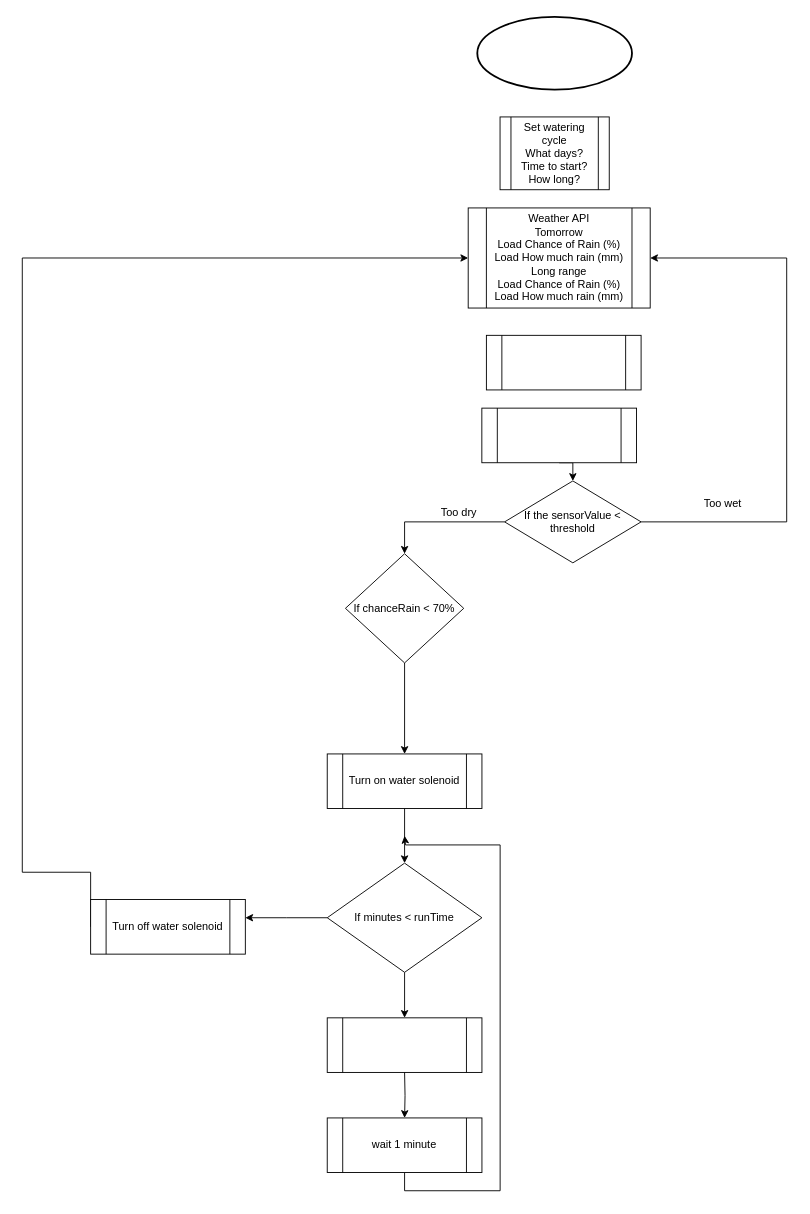
Image size: 810x1214. Some labels were removed from this diagram. Here are the shapes that lost their labels. From the top down, the centre of each, then its label:
At [554,52]: "User types the URL 192.0.0.0.8000".
At [563,362]: "Acess Moisture Sensor (Value)".
At [559,435]: "Check moisture sensor".
At [404,1044]: "minutes = minutes +1".
